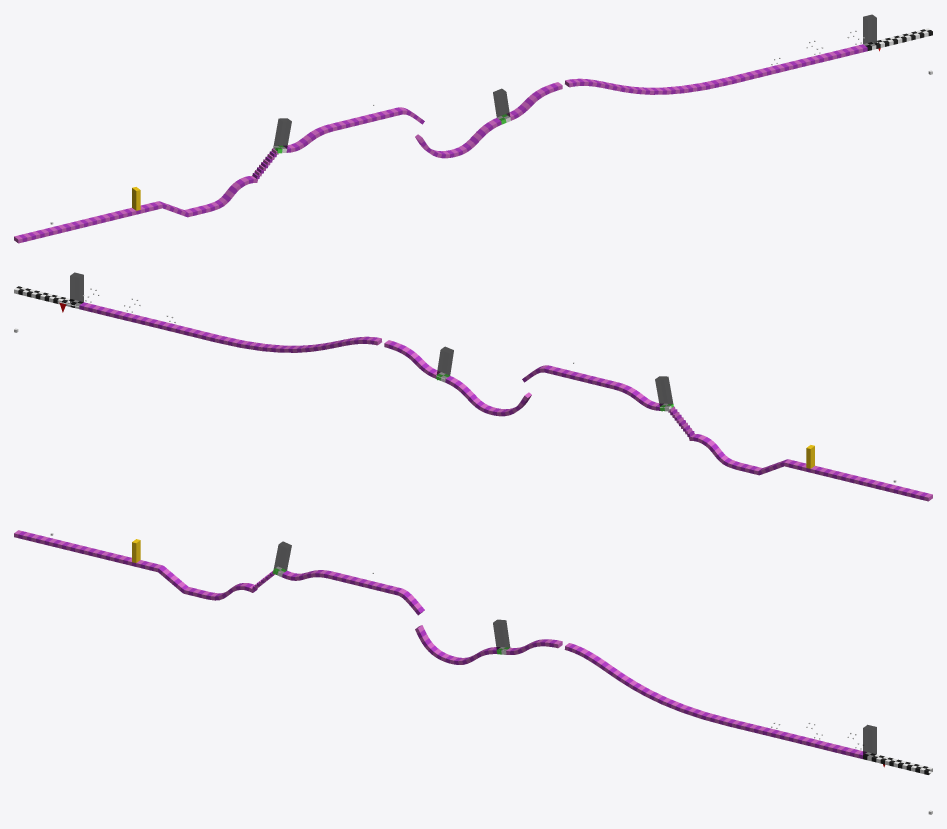
3 renders of one model, top to bottom at view 1: azimuth 30°, elevation 25°; view 2: azimuth 150°, elevation 25°; view 3: azimuth 330°, elevation 25°, orthographic.
Visible parts, largest first — view 1: Floor, Finish_Floor; view 2: Floor, Finish_Floor; view 3: Floor, Finish_Floor.
Part boxes in pixels (bbox=[...]): Floor: bbox=[14, 44, 867, 243]; Finish_Floor: bbox=[863, 28, 932, 50]; Floor: bbox=[79, 302, 932, 501]; Finish_Floor: bbox=[14, 286, 83, 308]; Floor: bbox=[14, 530, 866, 758]; Finish_Floor: bbox=[863, 752, 932, 774].
Size of what is drawn, in the model's own units: 210 by 24.62 by 1.93.
5 materials, 1 textured.
